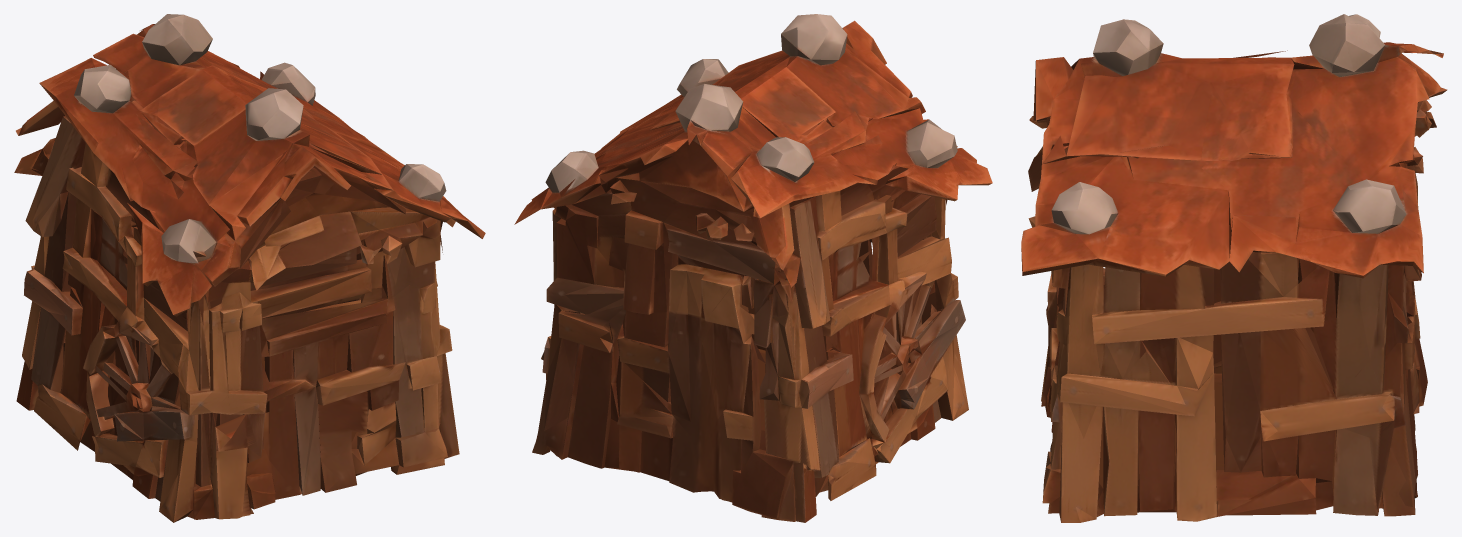
File: TWN_STR_shack_B.glb
3 views of the same model, side by side, from view 1: azimuth 30°, elevation 25°; view 2: azimuth 150°, elevation 25°; view 3: azimuth 270°, elevation 25° (orthographic). The views are drawn at different scales.
Parts seen in each view (by area): view 1: Mesh_0; view 2: Mesh_0; view 3: Mesh_0.
Boxes of the visible parts, bbox=[...] form: Mesh_0: bbox=[14, 14, 485, 522]; Mesh_0: bbox=[514, 14, 992, 522]; Mesh_0: bbox=[1021, 14, 1447, 522].
Size of the model in its own units: 1.61 by 1.89 by 1.72.
1 material, 1 textured.
